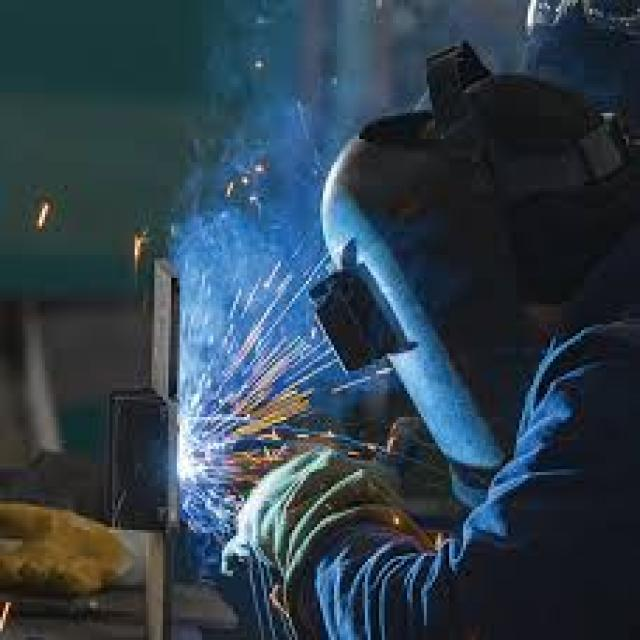welding: (177, 418, 202, 486)
